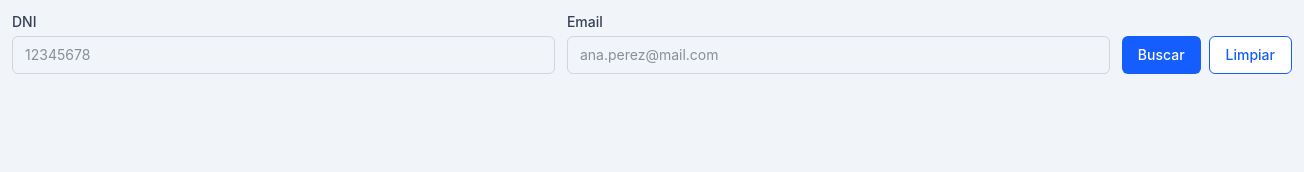
Test case: CustomerSearch › limpia los filtros y lista todos los clientes
Type "123" into the field labelled "DNI" at {"x": 283, "y": 55}, box 12,36 -> 555,74
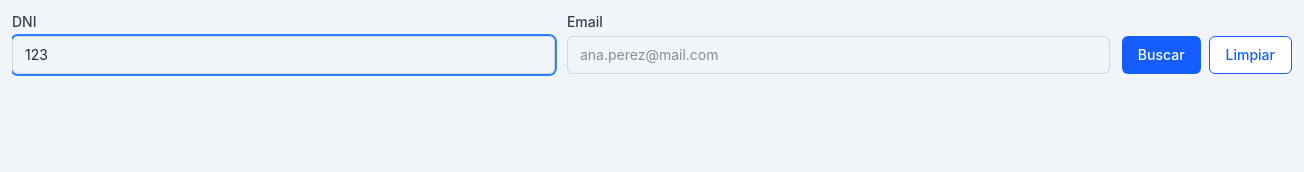
Click the button "Limpiar" at {"x": 1250, "y": 55}, box 1209,36 -> 1292,74
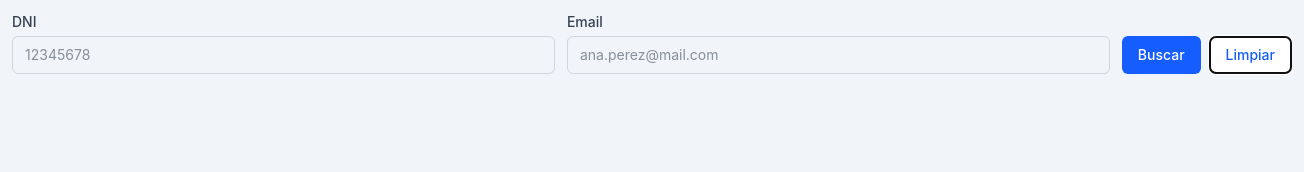
Now the field labelled "DNI" is empty, box 12,36 -> 555,74
